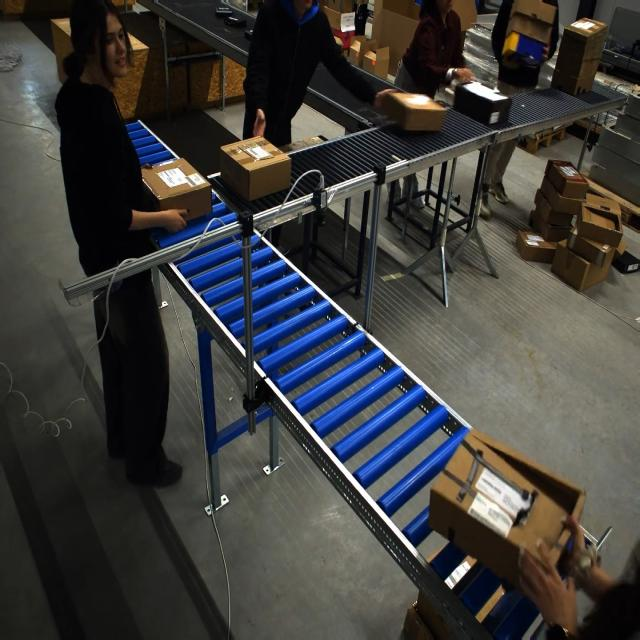box: (428, 438, 582, 597), (218, 136, 290, 203), (141, 156, 211, 221), (501, 0, 556, 65), (459, 74, 511, 132), (383, 91, 443, 132)
product: (353, 105, 389, 131), (224, 15, 247, 27), (214, 6, 234, 17), (244, 29, 253, 41)
